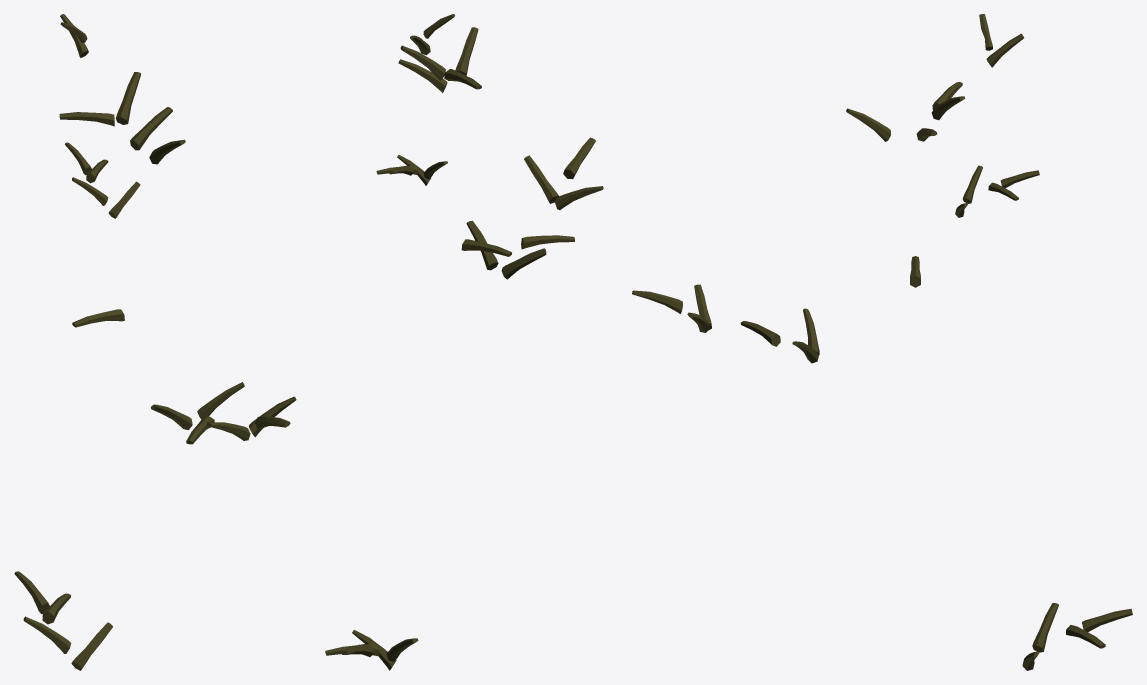
File: yejing4.fbx
3 views of the same model, side by side, from view 1: azimuth 30°, elevation 25°; view 2: azimuth 150°, elevation 25°; view 3: azimuth 270°, elevation 25° (orthographic). The views are drawn at different scales.
Parts seen in each view (by area): view 1: polySurface111; view 2: polySurface111; view 3: polySurface111.
Part boxes in pixels (x1,y1,x2,y2): polySurface111: [14, 14, 296, 670]; polySurface111: [325, 14, 603, 670]; polySurface111: [632, 14, 1132, 670].
Bounding box in the file's own units: 0.7174 × 4.28 × 3.05.
